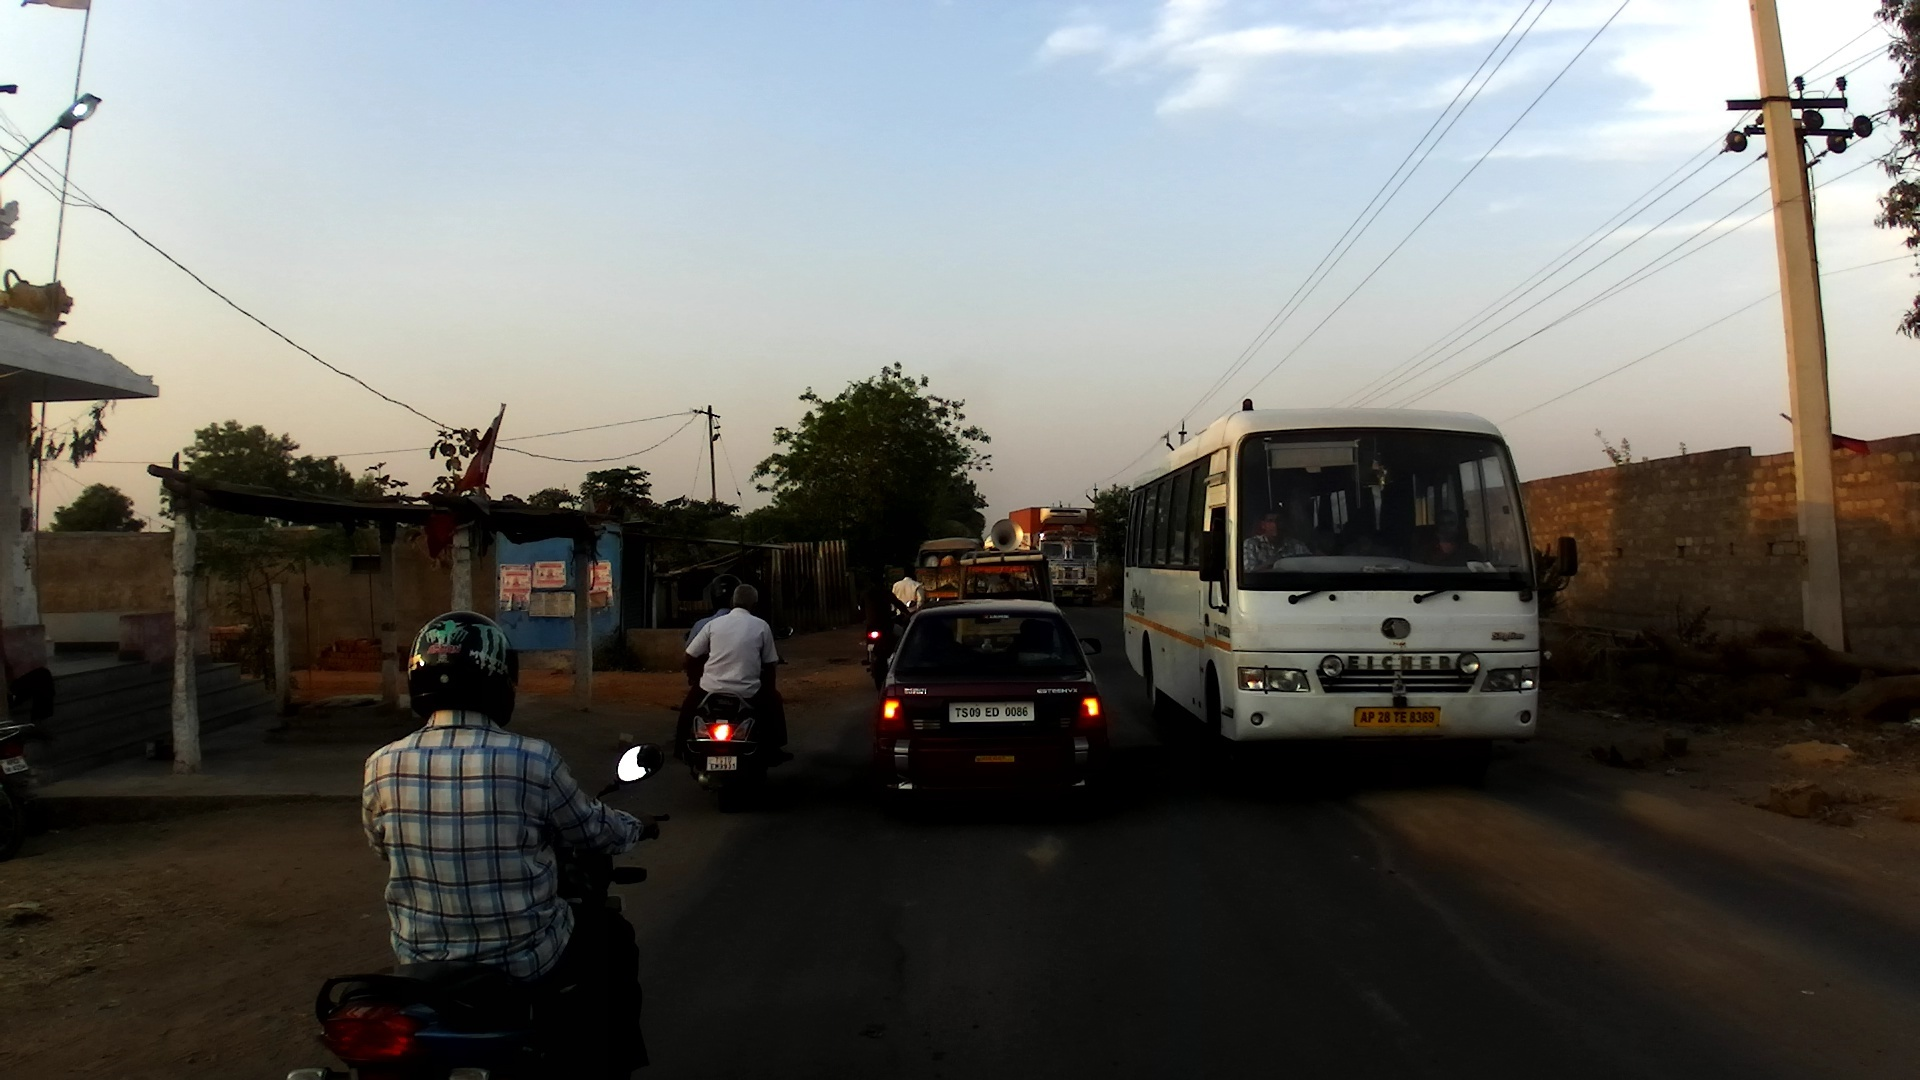autorickshaw: (952, 522, 1060, 609), (913, 535, 989, 609)
bus: (1121, 396, 1581, 774)
car: (872, 598, 1103, 833)
motorcycle: (277, 735, 667, 1080), (676, 624, 802, 801), (859, 606, 927, 691), (1, 715, 43, 842), (913, 592, 946, 611)
rider: (359, 606, 667, 1080), (681, 580, 802, 765), (692, 575, 784, 718), (851, 572, 910, 654), (885, 560, 924, 615)
truck: (1008, 509, 1100, 611)
